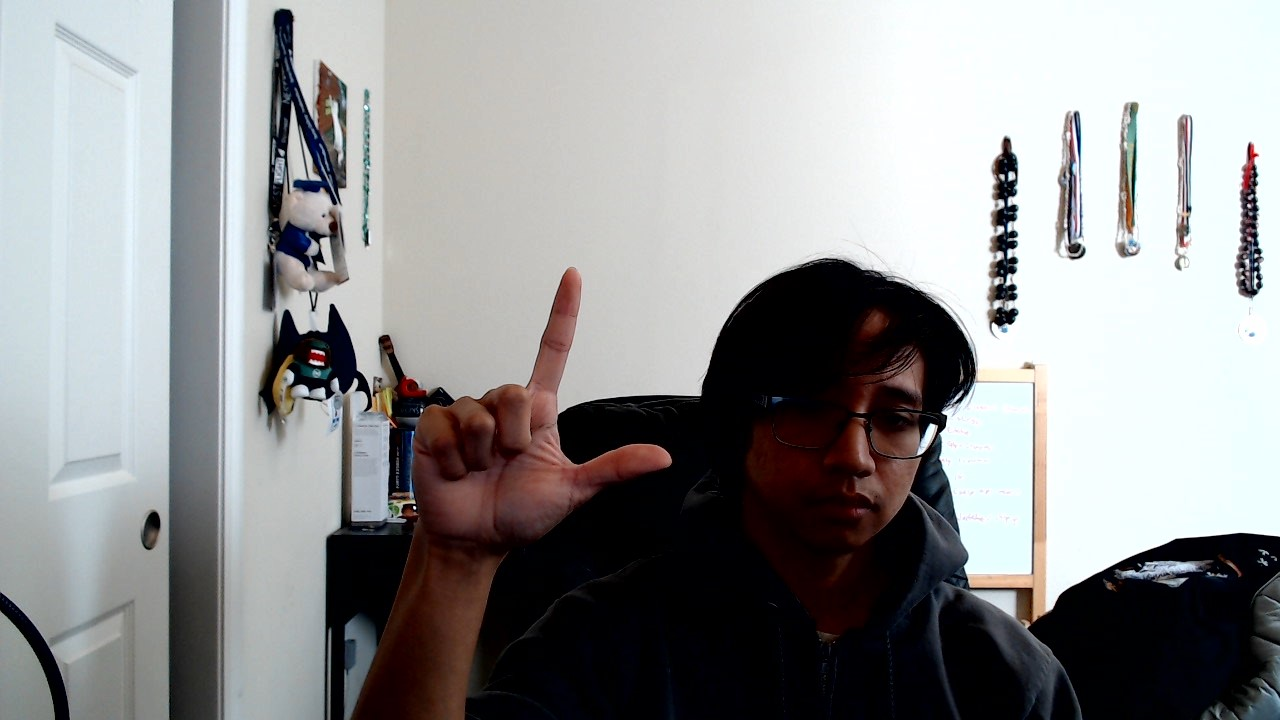l: (406, 265, 674, 550)
